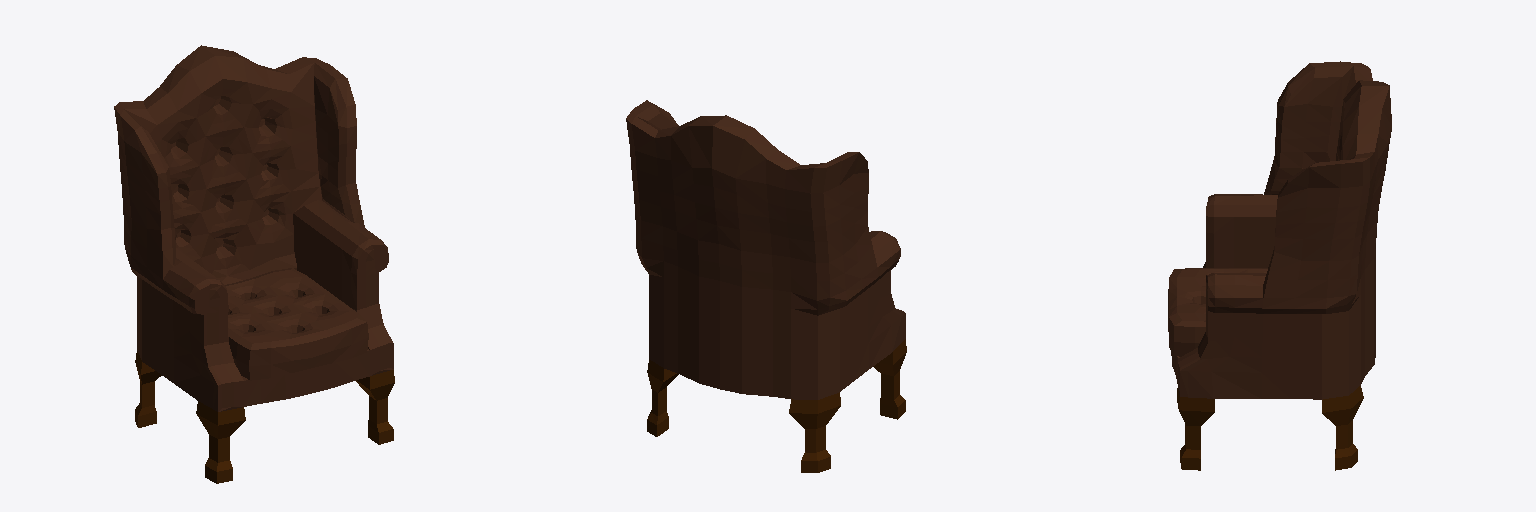
The model's file is chair2.obj.
3 views of the same model, side by side, from view 1: azimuth 30°, elevation 25°; view 2: azimuth 150°, elevation 25°; view 3: azimuth 270°, elevation 25° (orthographic).
Parts seen in each view (by area): view 1: Box, Box.3; view 2: Box; view 3: Box, Box.3.
Part boxes in pixels (x1,y1,x2,y2): Box: (114, 45, 394, 483); Box.3: (225, 268, 368, 380); Box: (626, 100, 906, 472); Box: (1171, 61, 1391, 470); Box.3: (1168, 268, 1267, 356).
Bounding box in the file's own units: 1.08 × 1.66 × 0.9896.